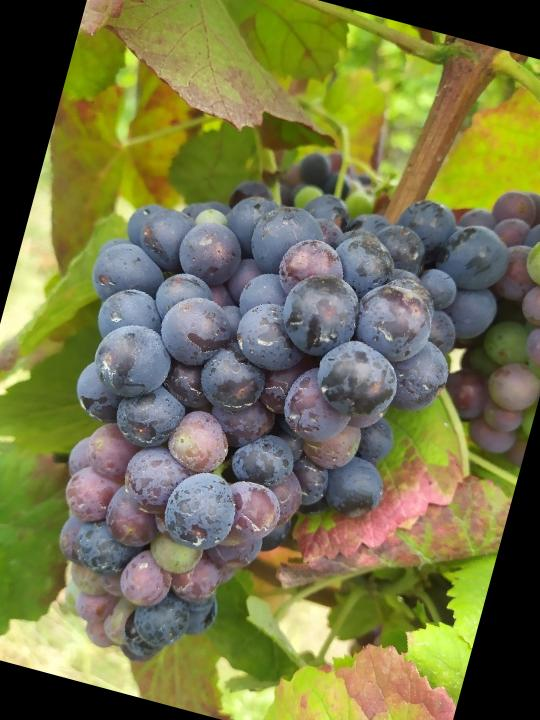grape: (0, 122, 522, 720)
